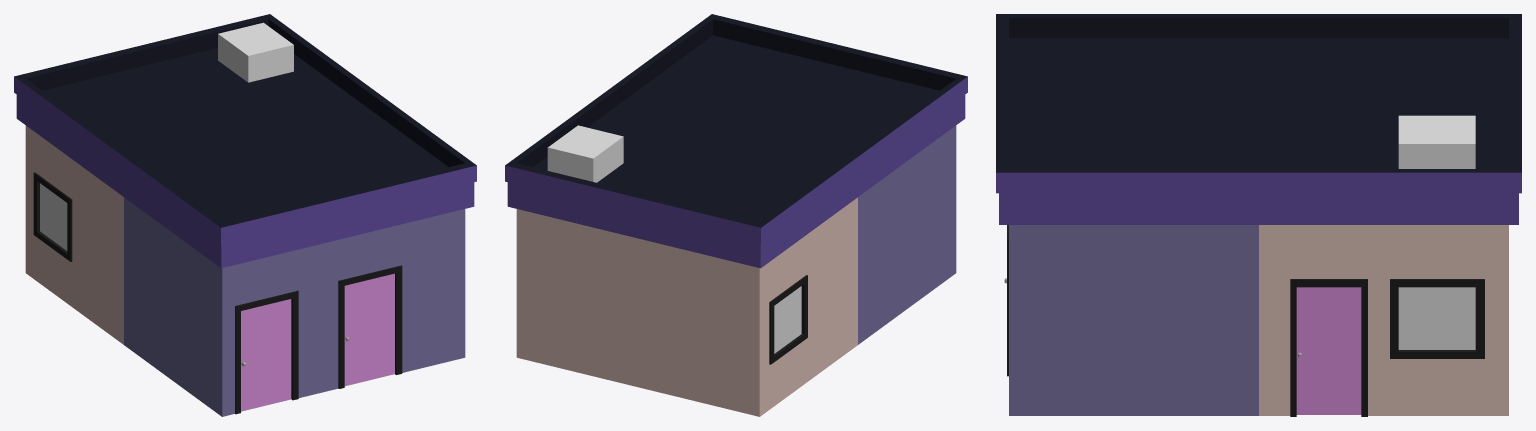
File: CuartoDeServicio.fbx
3 renders of one model, left to right at view 1: azimuth 30°, elevation 25°; view 2: azimuth 150°, elevation 25°; view 3: azimuth 270°, elevation 25°, orthographic. The views are drawn at different scales.
Visible parts, largest first — view 1: Cube; view 2: Cube; view 3: Cube.
Boxes of the visible parts, x1,y1,x2,y2 form: Cube: (14, 14, 476, 416); Cube: (505, 14, 967, 416); Cube: (996, 14, 1521, 416).
Size of the model in its own units: 1052 by 805 by 1473.
